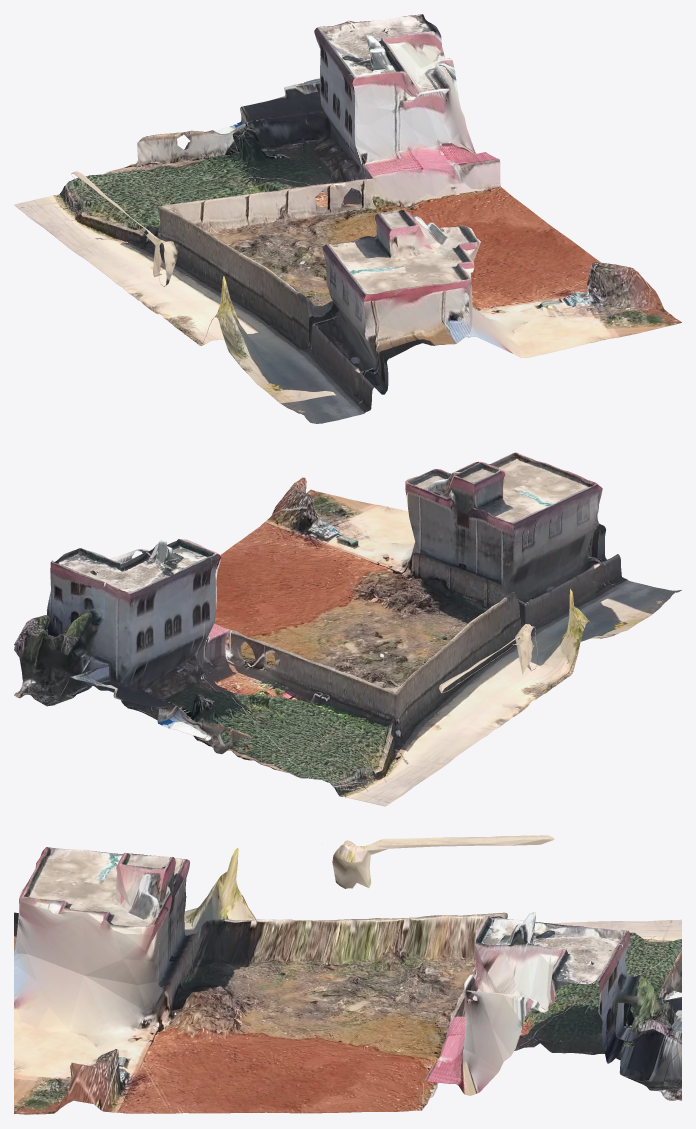
The model's file is BlockYB_L20_234.glb.
The picture shows the model from 3 angles, top to bottom: view 1: azimuth 30°, elevation 25°; view 2: azimuth 150°, elevation 25°; view 3: azimuth 270°, elevation 25°; orthographic projection. The views are drawn at different scales.
Visible parts, largest first — view 1: rtc; view 2: rtc; view 3: rtc.
Boxes of the visible parts, x1=… form: rtc: x1=14, y1=14, x2=681, y2=423; rtc: x1=14, y1=452, x2=681, y2=806; rtc: x1=14, y1=835, x2=681, y2=1114.
Bounding box in the file's own units: 38.62 × 15.89 × 53.43.
6 materials, 6 textured.
